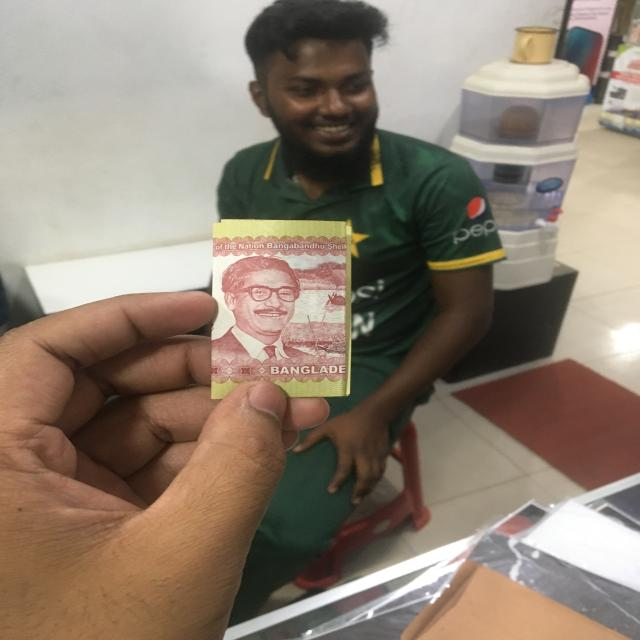Taka: (215, 219, 355, 399)
